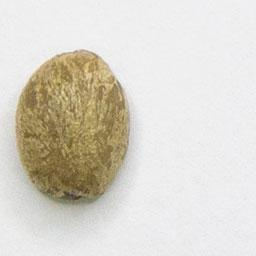premium: (12, 46, 133, 203)
